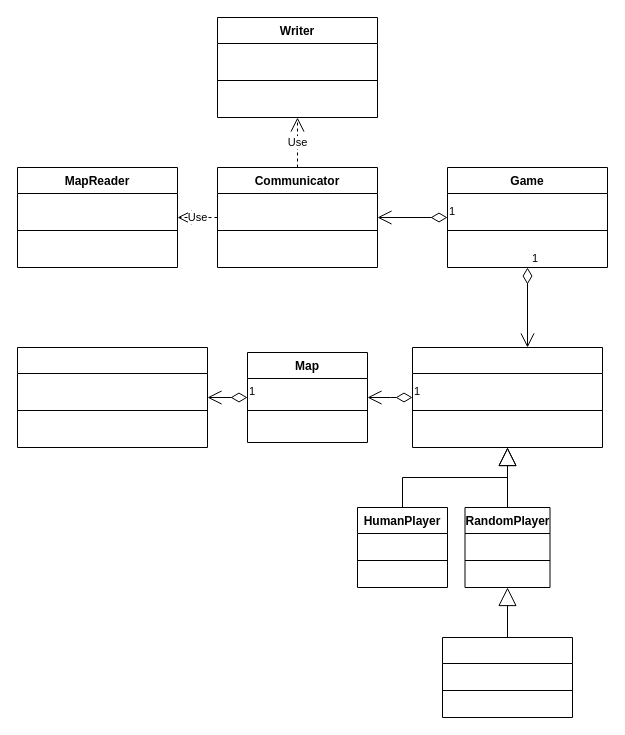
Image size: 625x735. Some labels were removed from this diagram. Here are the shapes that lost their labels. From the top down, the box of each, then its label:
(16, 346, 208, 448): Ship
(412, 346, 602, 448): Player
(442, 636, 572, 718): AdvancedAIPlayer
